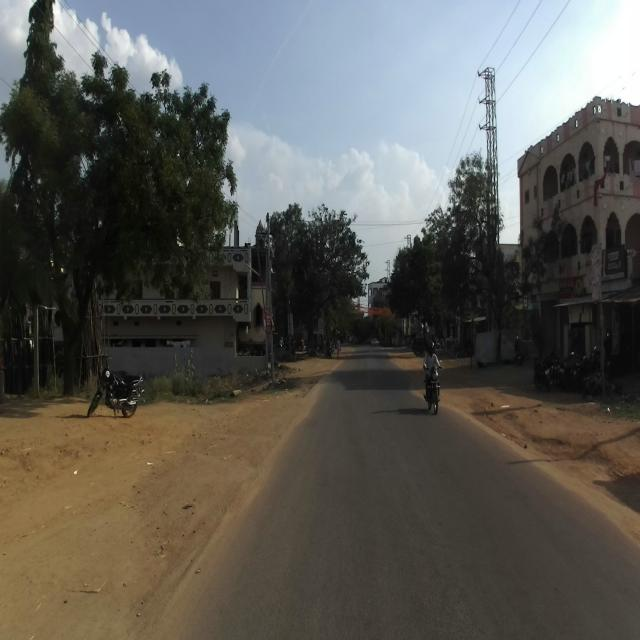motorcycle_Hero: (423, 363, 442, 414)
motorcycle_bajaj: (87, 355, 143, 418)
